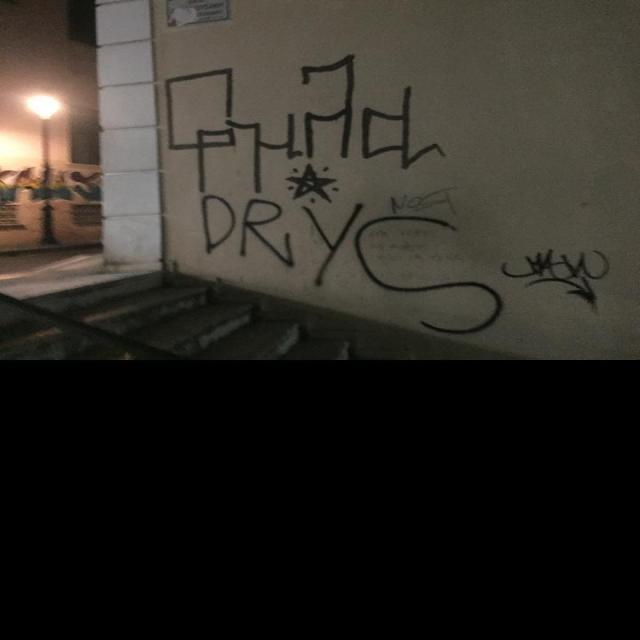nonspitting: (163, 50, 504, 339), (503, 247, 611, 314)
